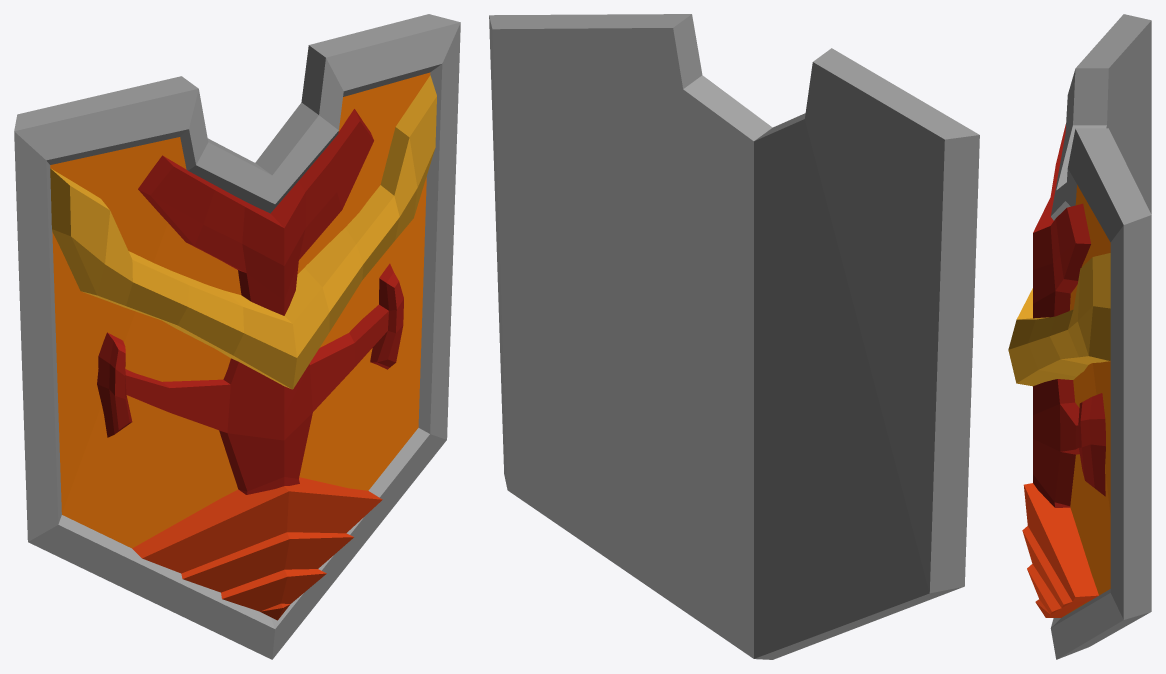
The model's file is Shield08.fbx.
3 views of the same model, side by side, from view 1: azimuth 30°, elevation 25°; view 2: azimuth 150°, elevation 25°; view 3: azimuth 270°, elevation 25° (orthographic). The views are drawn at different scales.
Visible parts, largest first — view 1: Shield8_Shield08; view 2: Shield8_Shield08; view 3: Shield8_Shield08.
Part boxes in pixels (x1=…): Shield8_Shield08: x1=14, y1=14, x2=460, y2=659; Shield8_Shield08: x1=489, y1=14, x2=979, y2=659; Shield8_Shield08: x1=1008, y1=14, x2=1151, y2=659.
Size of the model in its own units: 77.43 by 22.2 by 96.
1 material, 1 textured.
